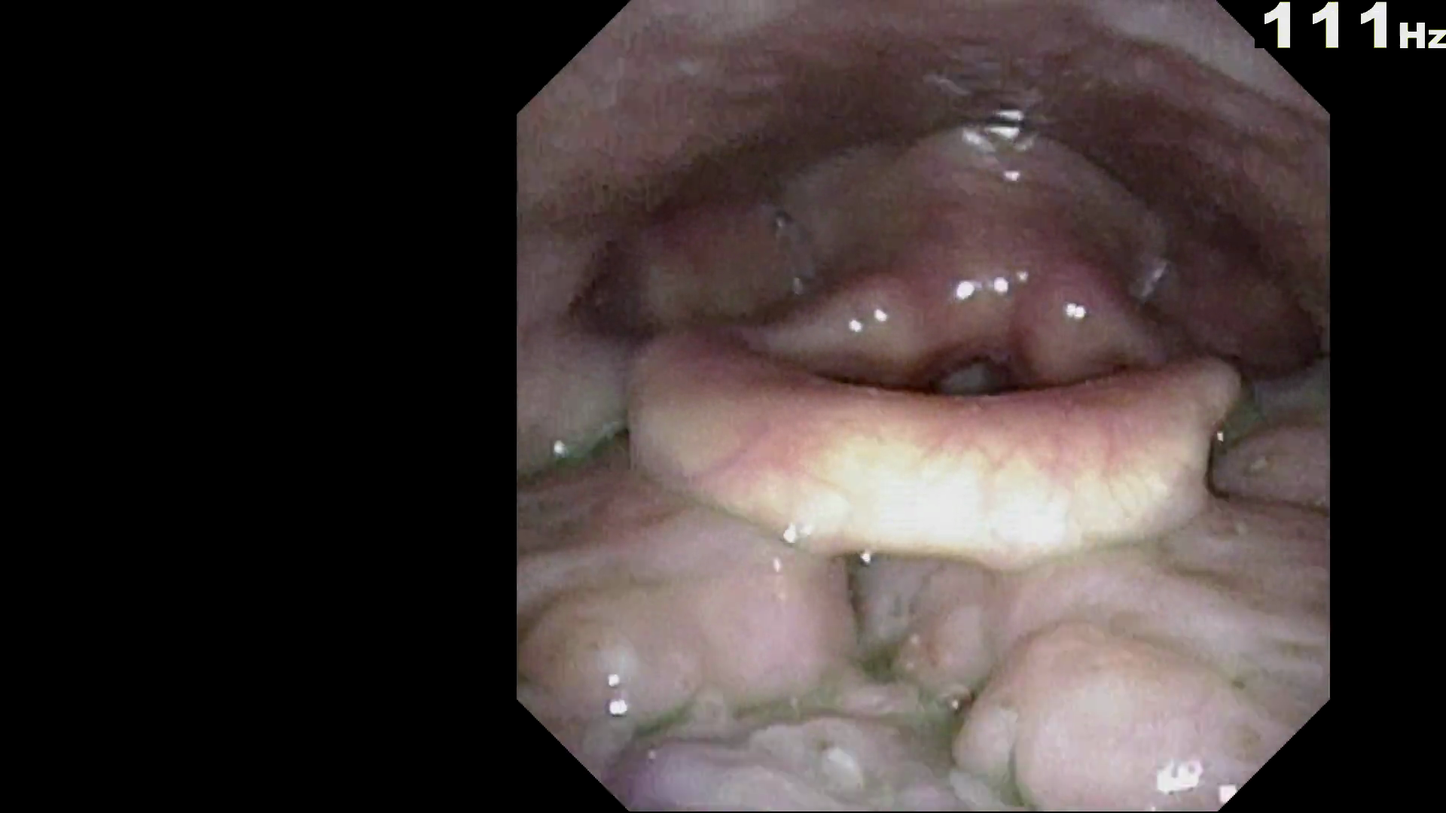epiglottis: (607, 280, 1244, 540)
trachea: (902, 314, 1037, 460)
